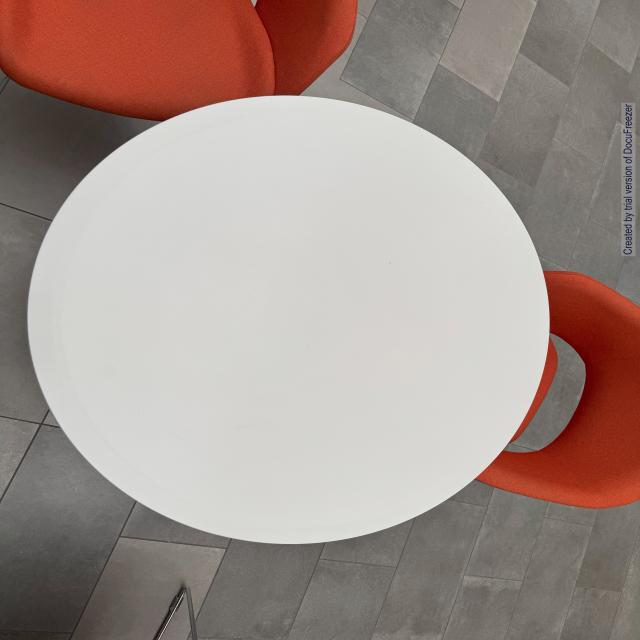Table: (11, 90, 557, 572)
